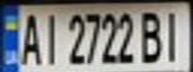2: (63, 8, 87, 65), (115, 8, 139, 65), (100, 8, 121, 65)
7: (81, 8, 103, 65)
A: (15, 9, 45, 66)
B: (136, 7, 166, 64)
I: (157, 7, 187, 63), (36, 8, 63, 66)
